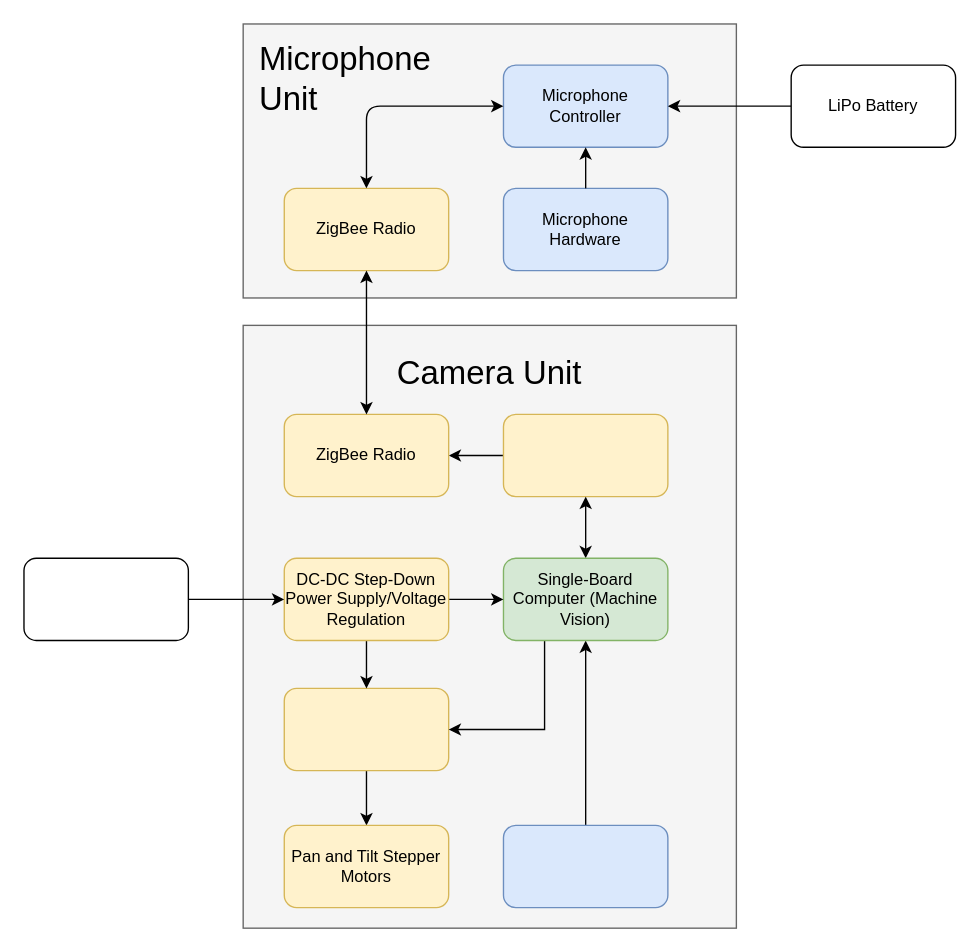
Some shapes in this 980 by 952 pixel diagram are drawn without their labels. The box of each missing label's shape, as (x1, y1, x2, y2) in pixels:
+12VDC Input: (23, 557, 188, 640)
Camera: (502, 824, 668, 908)
Camera Base Station Controller (MCU/FPGA): (283, 687, 449, 771)
Wireless Interface: (502, 413, 668, 497)
